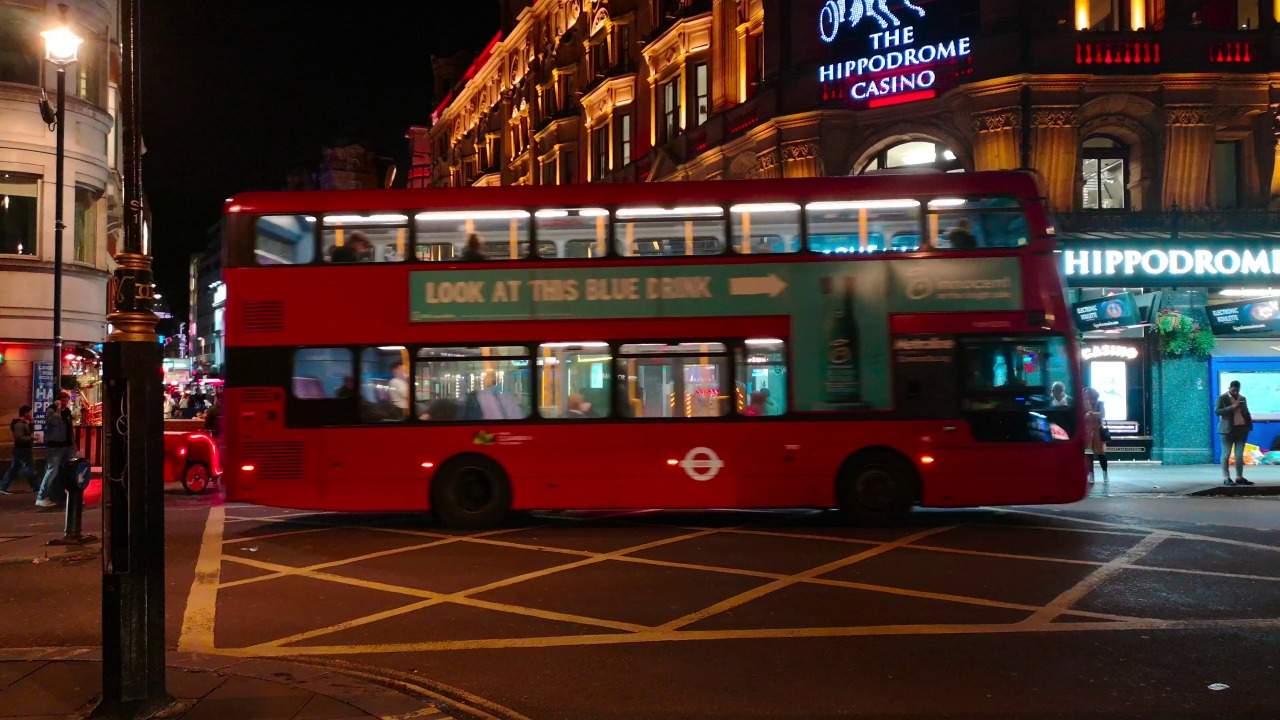car: (221, 181, 1106, 521), (158, 423, 222, 495)
person: (31, 390, 75, 510), (1211, 376, 1253, 484), (1085, 388, 1123, 487), (16, 404, 38, 494), (384, 359, 414, 416), (335, 228, 373, 266), (941, 212, 978, 248), (450, 229, 491, 260), (561, 393, 600, 418), (1051, 379, 1071, 408)
